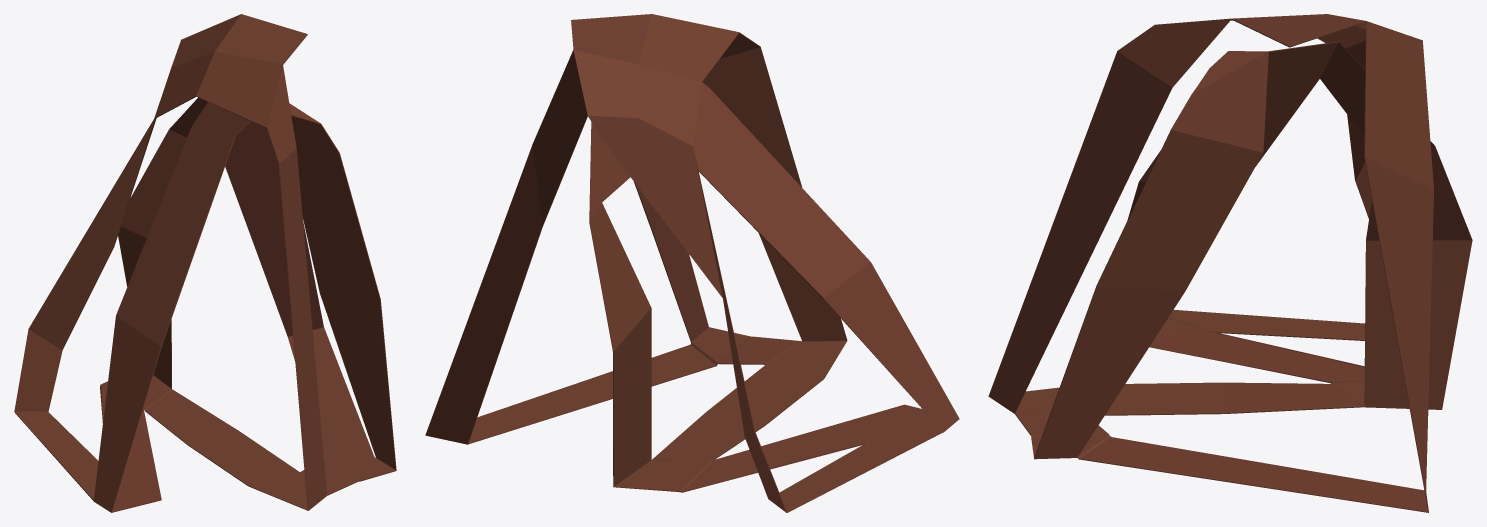
File: Carton.fbx
3 views of the same model, side by side, from view 1: azimuth 30°, elevation 25°; view 2: azimuth 150°, elevation 25°; view 3: azimuth 270°, elevation 25° (orthographic). The views are drawn at different scales.
Parts seen in each view (by area): view 1: Pied oeuvre; view 2: Pied oeuvre; view 3: Pied oeuvre.
Boxes of the visible parts, box(x1,y1,x2,y2) form: Pied oeuvre: box(14, 14, 396, 512); Pied oeuvre: box(425, 14, 959, 512); Pied oeuvre: box(988, 14, 1472, 512).
Bounding box in the file's own units: 1418 × 1391 × 1417.
